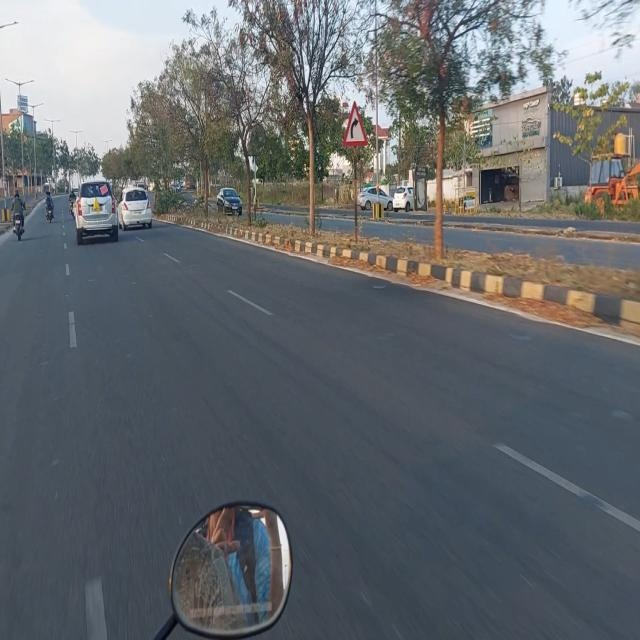bien_nguy_hiem: (344, 98, 366, 152)
